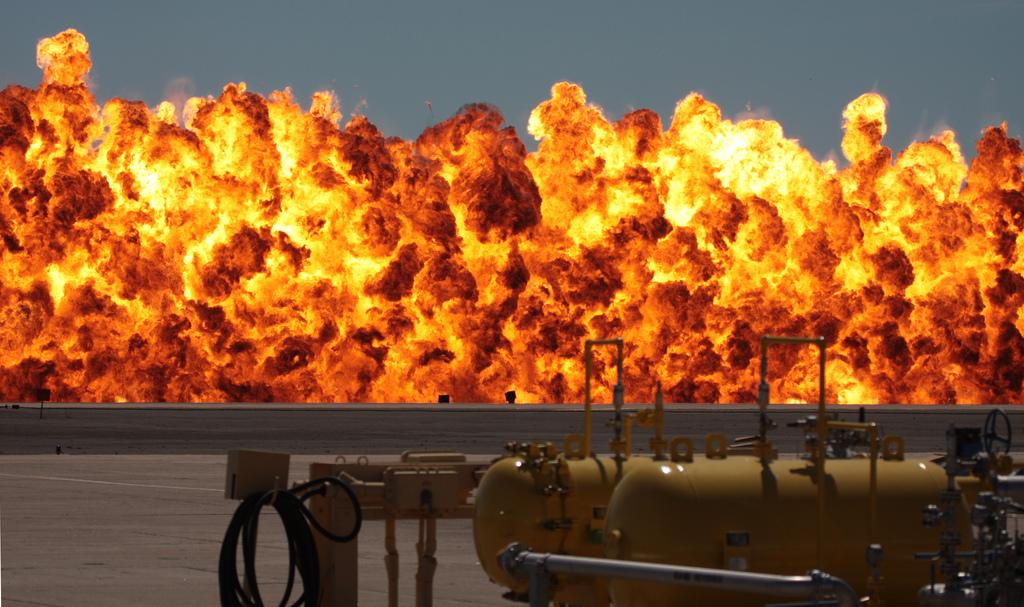fire: (552, 108, 820, 280), (117, 120, 348, 275)
